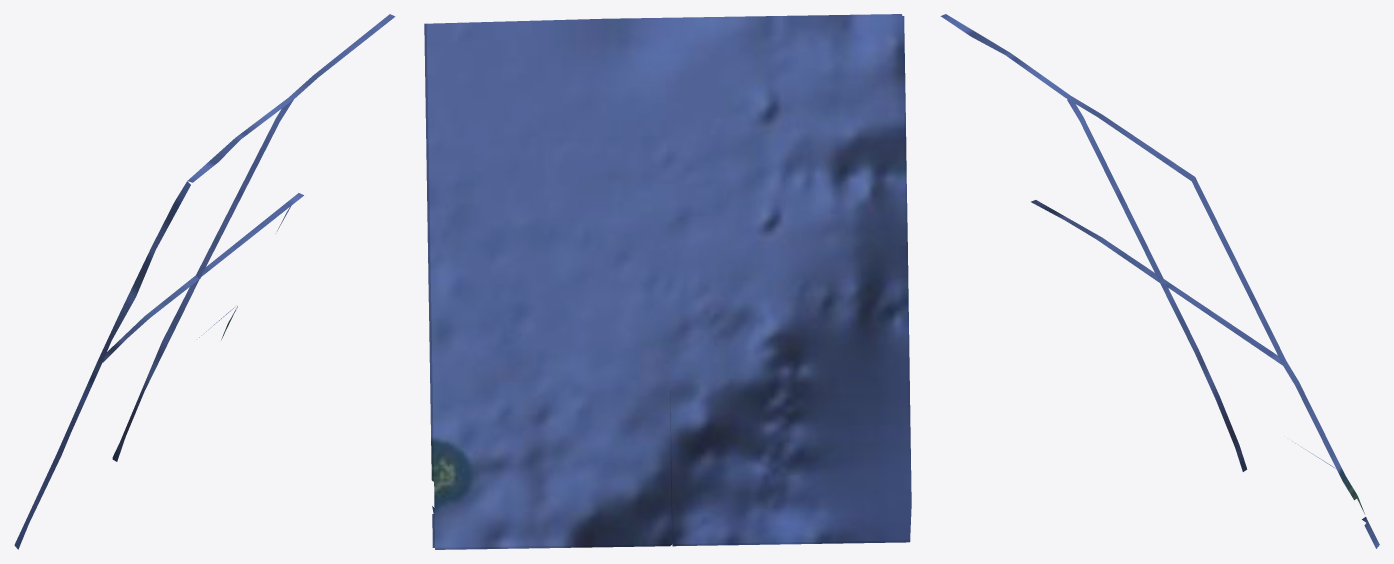
3 renders of one model, left to right at view 1: azimuth 30°, elevation 25°; view 2: azimuth 150°, elevation 25°; view 3: azimuth 270°, elevation 25°, orthographic. The views are drawn at different scales.
Bounding box in the file's own units: 38744 × 36362 × 33854.
1 material, 1 textured.
